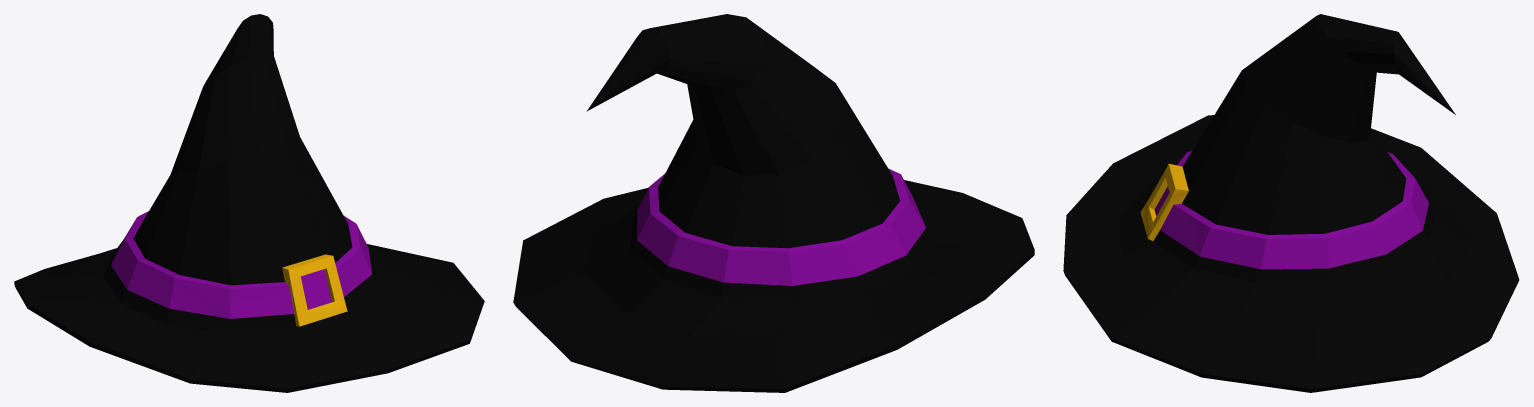
File: hat_witch.fbx
3 renders of one model, left to right at view 1: azimuth 30°, elevation 25°; view 2: azimuth 150°, elevation 25°; view 3: azimuth 270°, elevation 25°, orthographic. The views are drawn at different scales.
Visible parts, largest first — view 1: hat_witc1:Mesh; view 2: hat_witc1:Mesh; view 3: hat_witc1:Mesh.
Boxes of the visible parts, x1,y1,x2,y2 form: hat_witc1:Mesh: (14, 14, 484, 392); hat_witc1:Mesh: (513, 14, 1034, 392); hat_witc1:Mesh: (1063, 14, 1519, 392).
Bounding box in the file's own units: 3.02 × 1.88 × 2.67.
